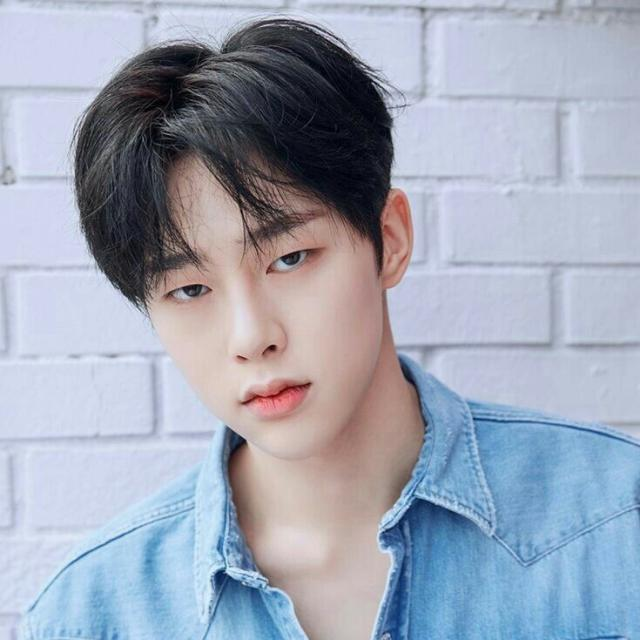Nonhelmet: (67, 11, 424, 476)
